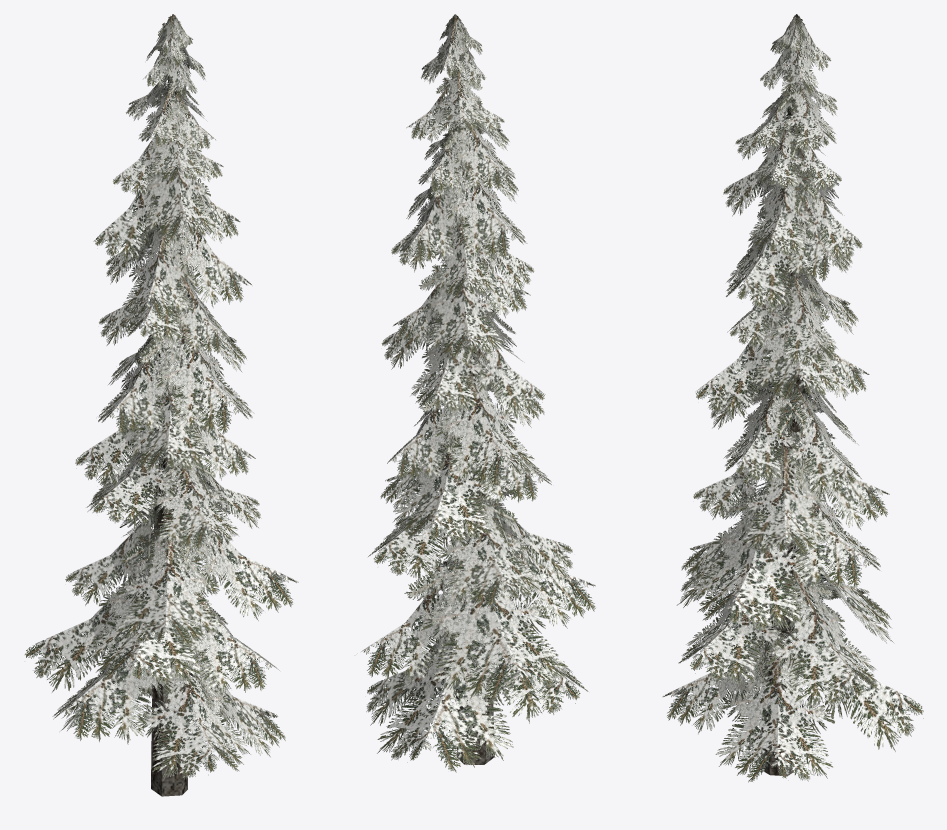
The model's file is abeto_nieve_b.glb.
3 renders of one model, left to right at view 1: azimuth 30°, elevation 25°; view 2: azimuth 150°, elevation 25°; view 3: azimuth 270°, elevation 25°, orthographic. The views are drawn at different scales.
Visible parts, largest first — view 1: Modelo; view 2: Modelo; view 3: Modelo.
Part boxes in pixels (<box>): Modelo: <box>24,14,298,796</box>; Modelo: <box>361,14,595,772</box>; Modelo: <box>662,14,923,782</box>.
Bounding box in the file's own units: 2.11 × 5.81 × 1.99.
Materials: 1 (1 with a texture image).
